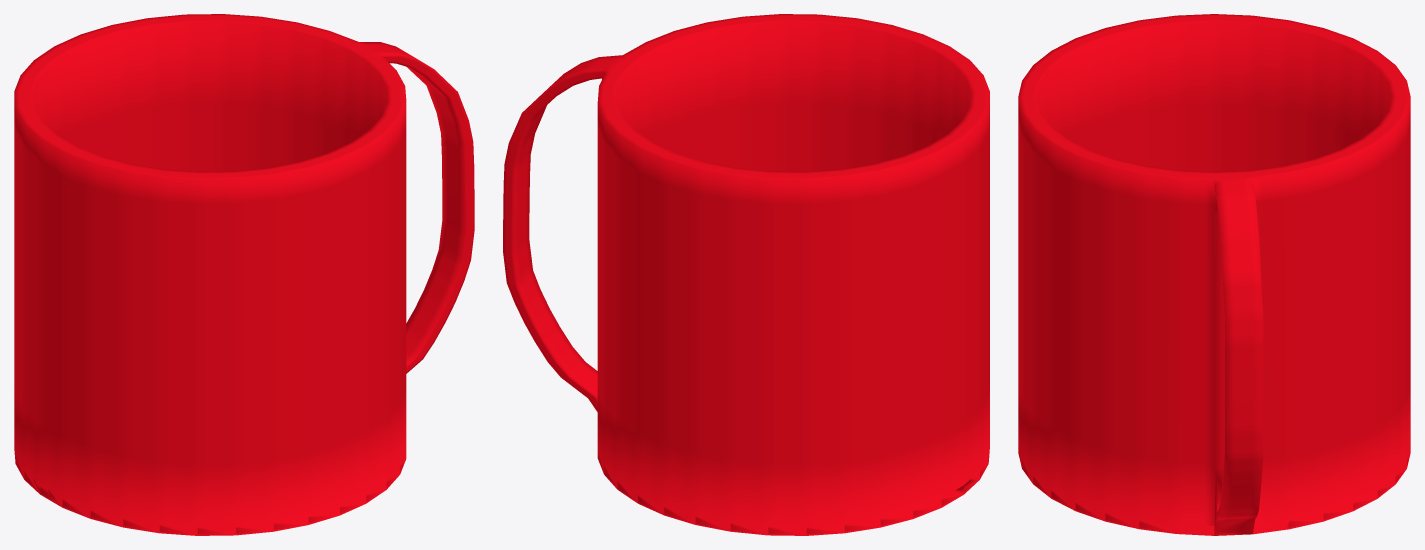
File: tasse (1).fbx
3 renders of one model, left to right at view 1: azimuth 30°, elevation 25°; view 2: azimuth 150°, elevation 25°; view 3: azimuth 270°, elevation 25°, orthographic.
Visible parts, largest first — view 1: Cylinder; view 2: Cylinder; view 3: Cylinder.
Boxes of the visible parts, box(x1,y1,x2,y2) form: Cylinder: box(14, 14, 474, 535); Cylinder: box(503, 14, 989, 535); Cylinder: box(1018, 14, 1410, 535).
Bounding box in the file's own units: 258 × 200 × 200.
